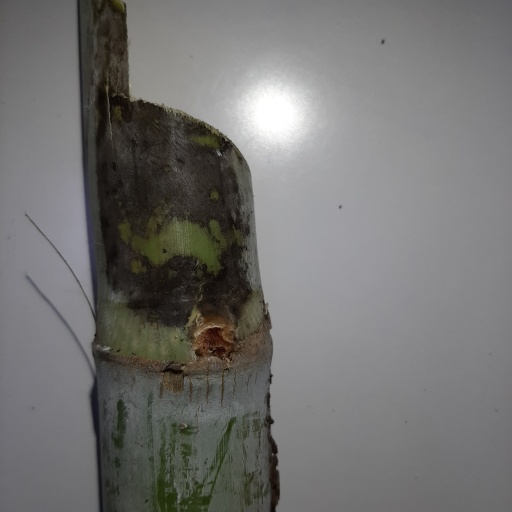Damage_Bud: (187, 312, 236, 358)
